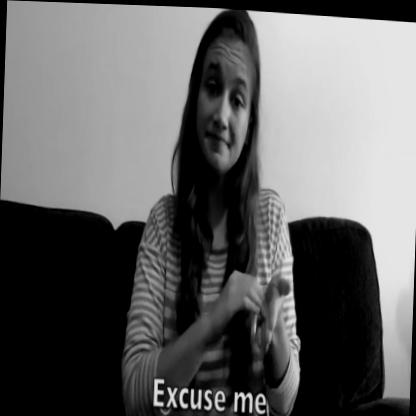ExcuseMe: (200, 237, 309, 359)
